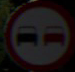No overtake: (10, 12, 67, 56)
